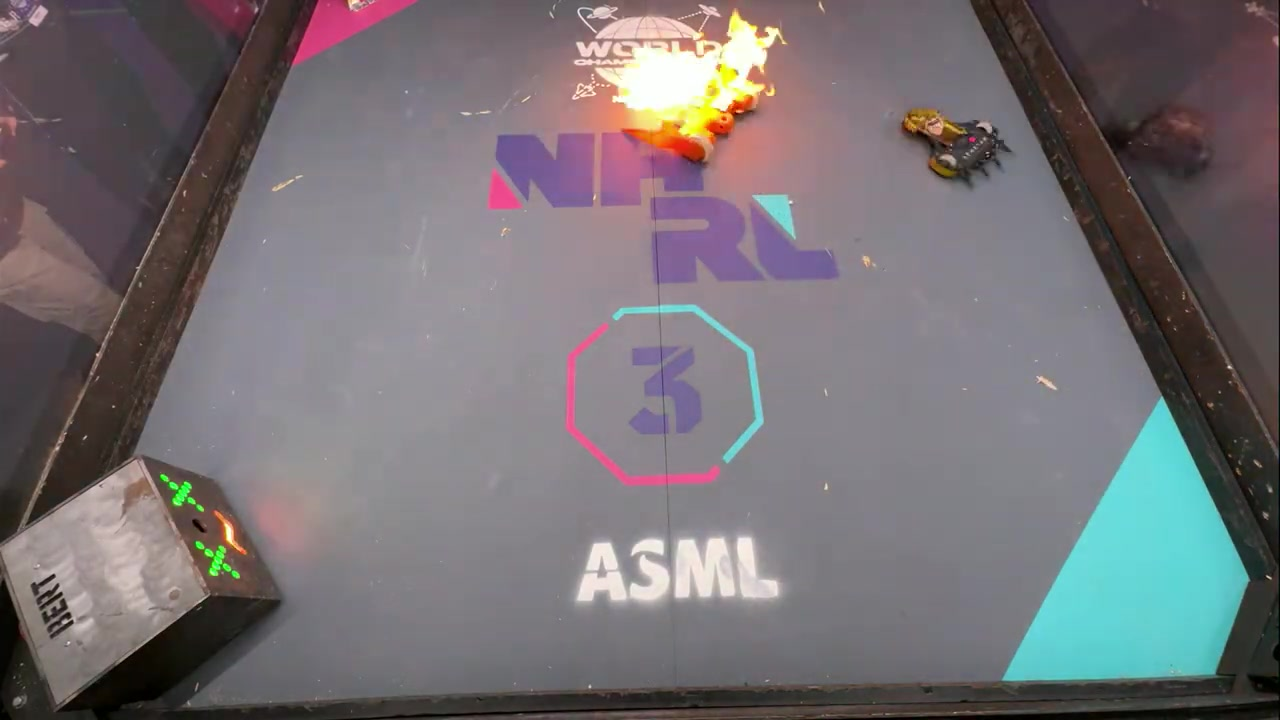combatbot: (903, 107, 998, 179), (677, 90, 755, 164)
housebot: (0, 455, 280, 713)
